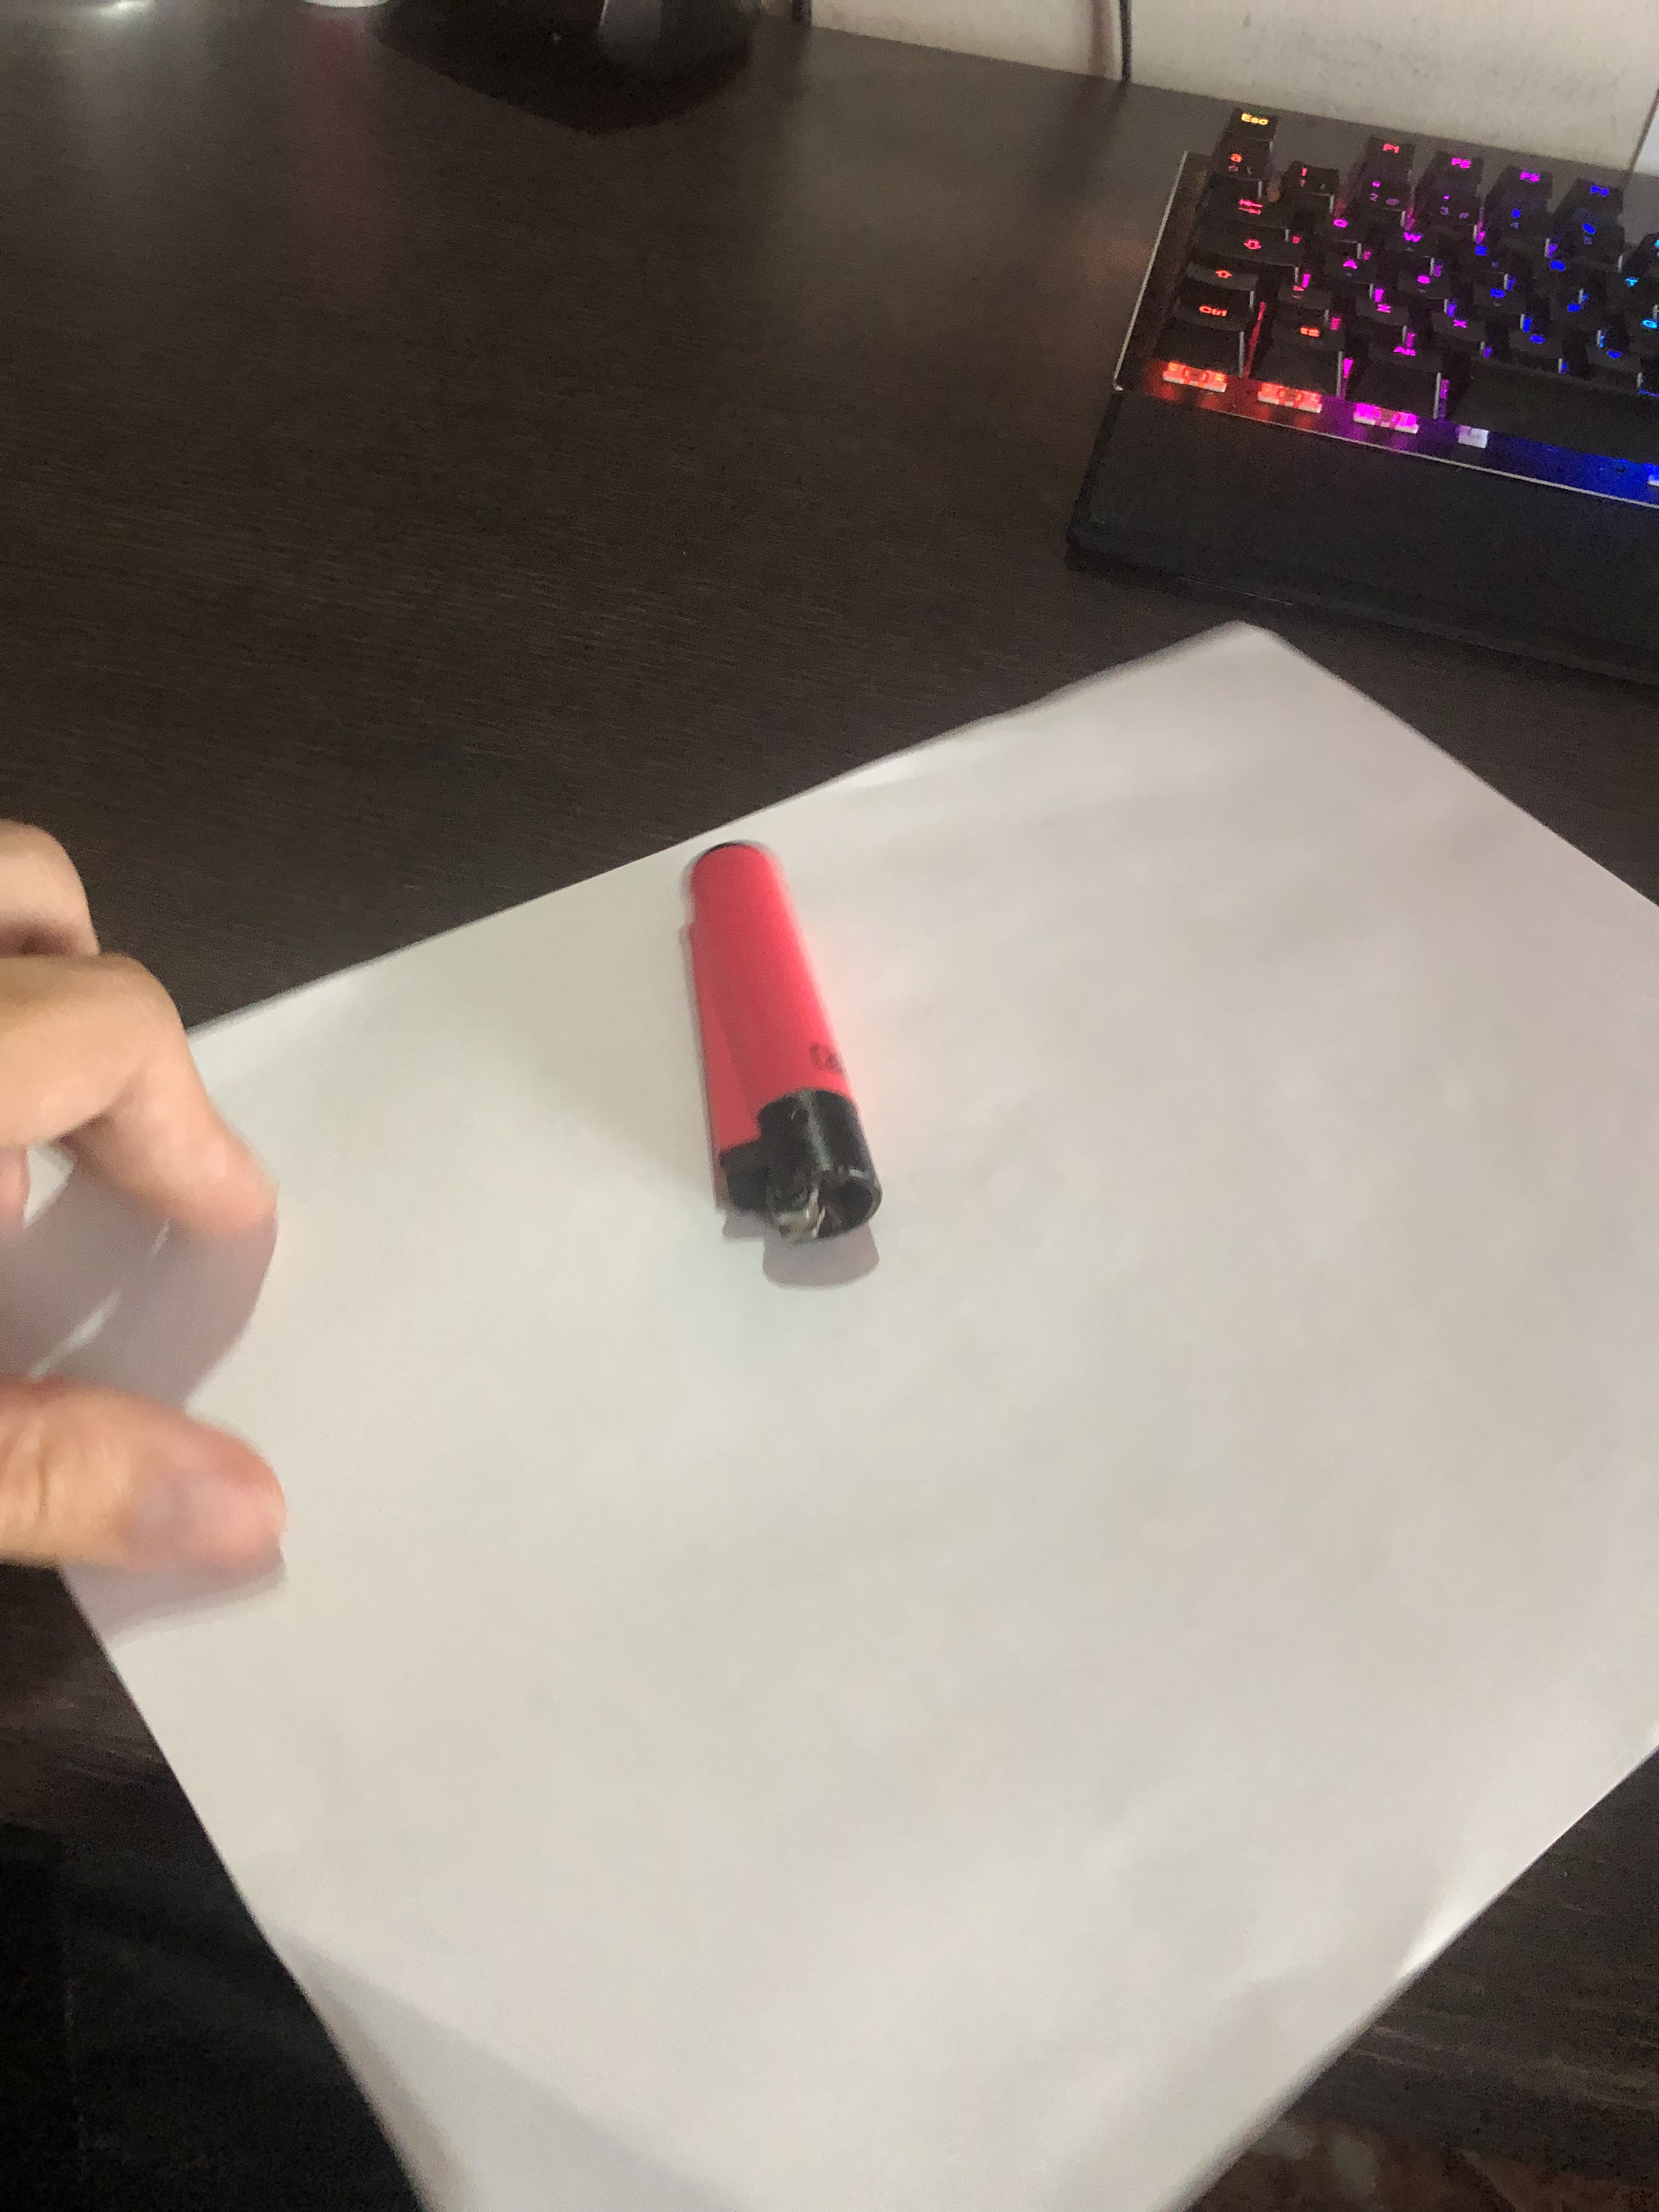Mechero: (643, 843, 908, 1252)
